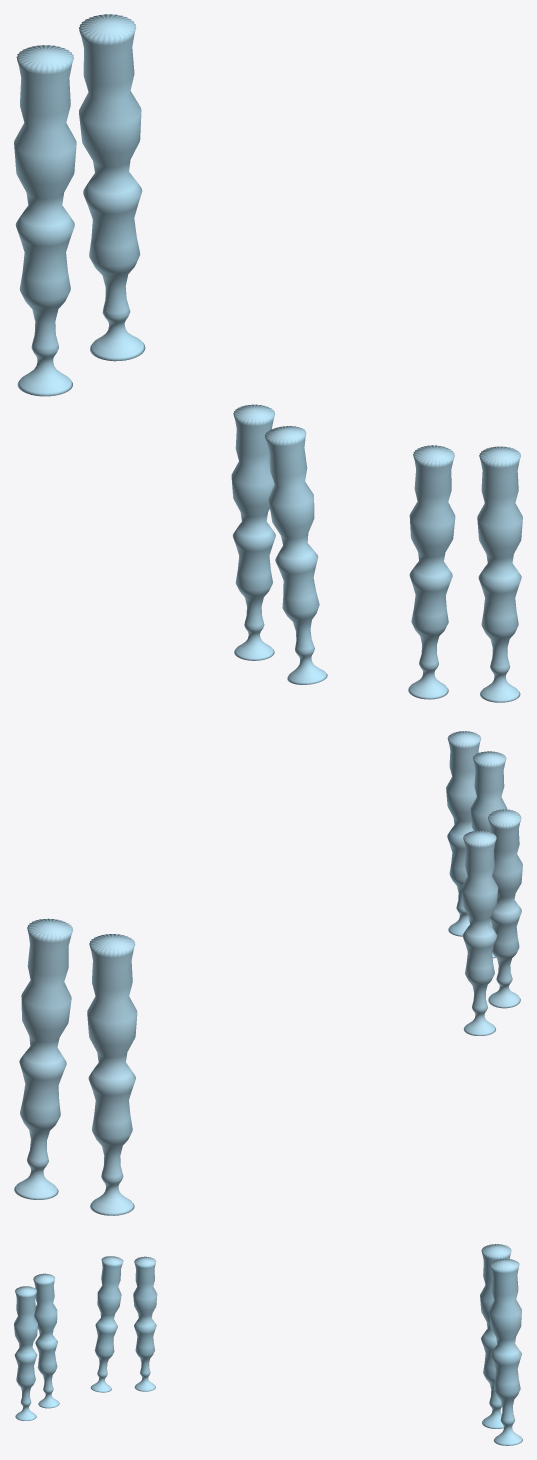
Rendered from DIYAO_columnas.glb.
3 renders of one model, top to bottom at view 1: azimuth 30°, elevation 25°; view 2: azimuth 150°, elevation 25°; view 3: azimuth 270°, elevation 25°, orthographic. The views are drawn at different scales.
Parts seen in each view (by area): view 1: ColumnaGrande_Verde.006; view 2: ColumnaGrande_Verde.006; view 3: ColumnaGrande_Verde.006.
Part boxes in pixels (x1=…): ColumnaGrande_Verde.006: x1=14, y1=14, x2=522, y2=702; ColumnaGrande_Verde.006: x1=14, y1=731, x2=522, y2=1215; ColumnaGrande_Verde.006: x1=14, y1=1244, x2=522, y2=1445.
Bounding box in the file's own units: 39.12 × 50.54 × 130.
1 material, 1 textured.
